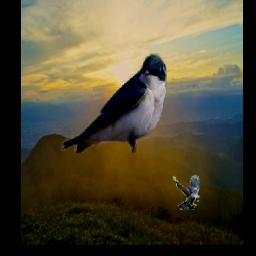Crow: (172, 175, 200, 211)
Swallow: (61, 54, 167, 154)
